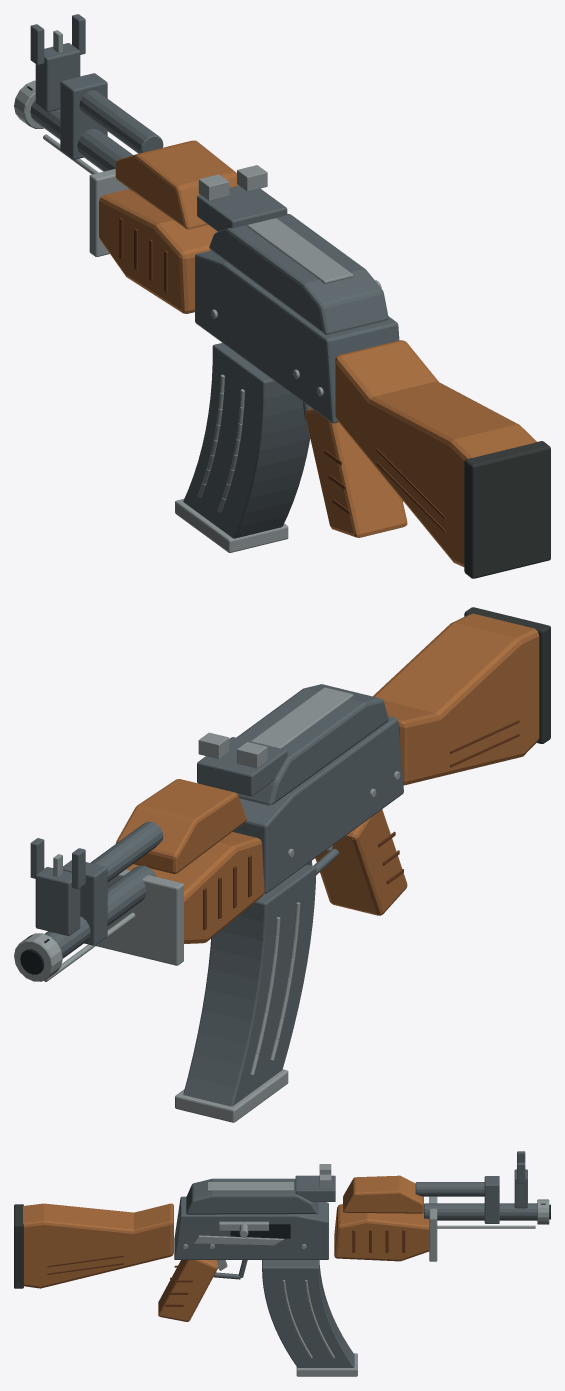
3 views of the same model, one above another, from view 1: azimuth 30°, elevation 25°; view 2: azimuth 150°, elevation 25°; view 3: azimuth 270°, elevation 25° (orthographic). The views are drawn at different scales.
Parts seen in each view (by area): view 1: AKBody, CurvedMagazine; view 2: AKBody, CurvedMagazine; view 3: AKBody, CurvedMagazine, ChargingHandle.
Boxes of the visible parts, x1,y1,x2,y2 form: AKBody: [14, 14, 550, 578]; CurvedMagazine: [175, 343, 310, 552]; AKBody: [14, 607, 550, 981]; CurvedMagazine: [175, 864, 316, 1122]; AKBody: [14, 1151, 550, 1321]; CurvedMagazine: [262, 1260, 357, 1376]; ChargingHandle: [219, 1221, 268, 1237].
Bounding box in the file's own units: 0.226 × 0.698 × 1.61.
